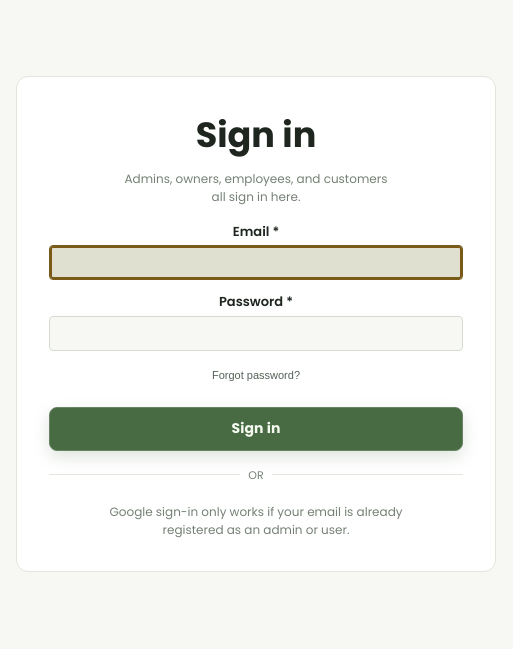
Test: LoginPage workspace intent › explains a CSRF rejection without blaming the credentials
Type "admin@example.com" into the field labelled "Email *" at [256, 262], box [49, 245, 463, 280]
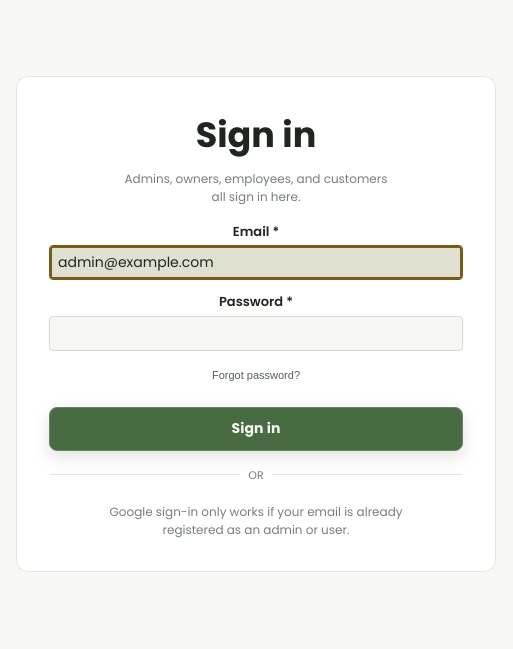
Type "secret" into the password field labelled "Password *" at [256, 333], box [49, 316, 463, 350]
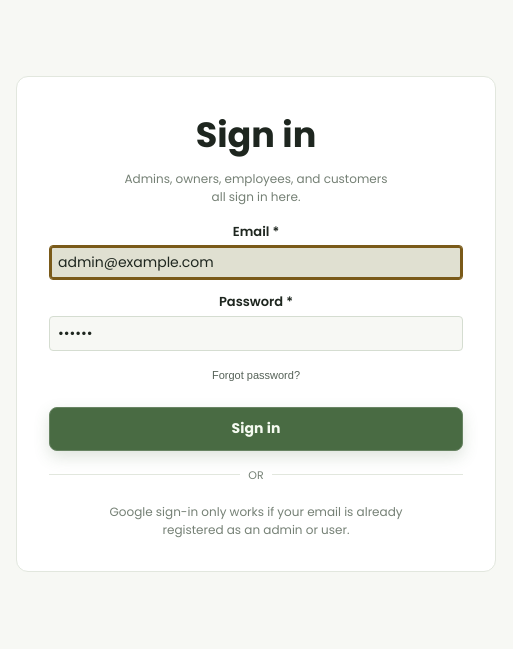
Click the button "Sign in" at [256, 428], box [49, 406, 463, 450]
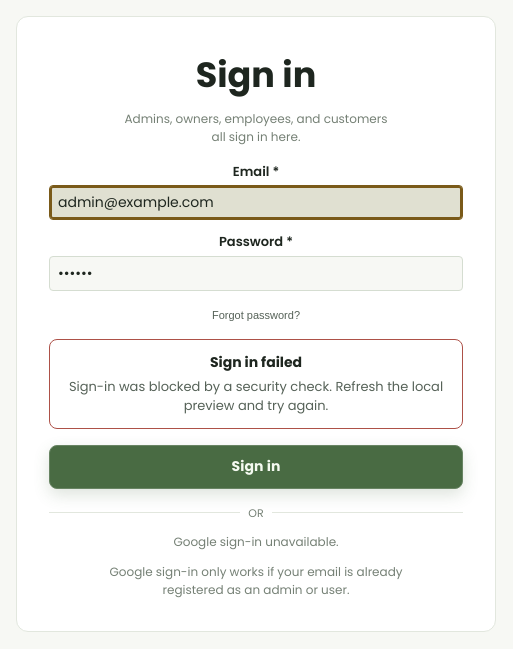
Result: the text "blocked by a security check" is shown at [69, 376, 443, 415]
